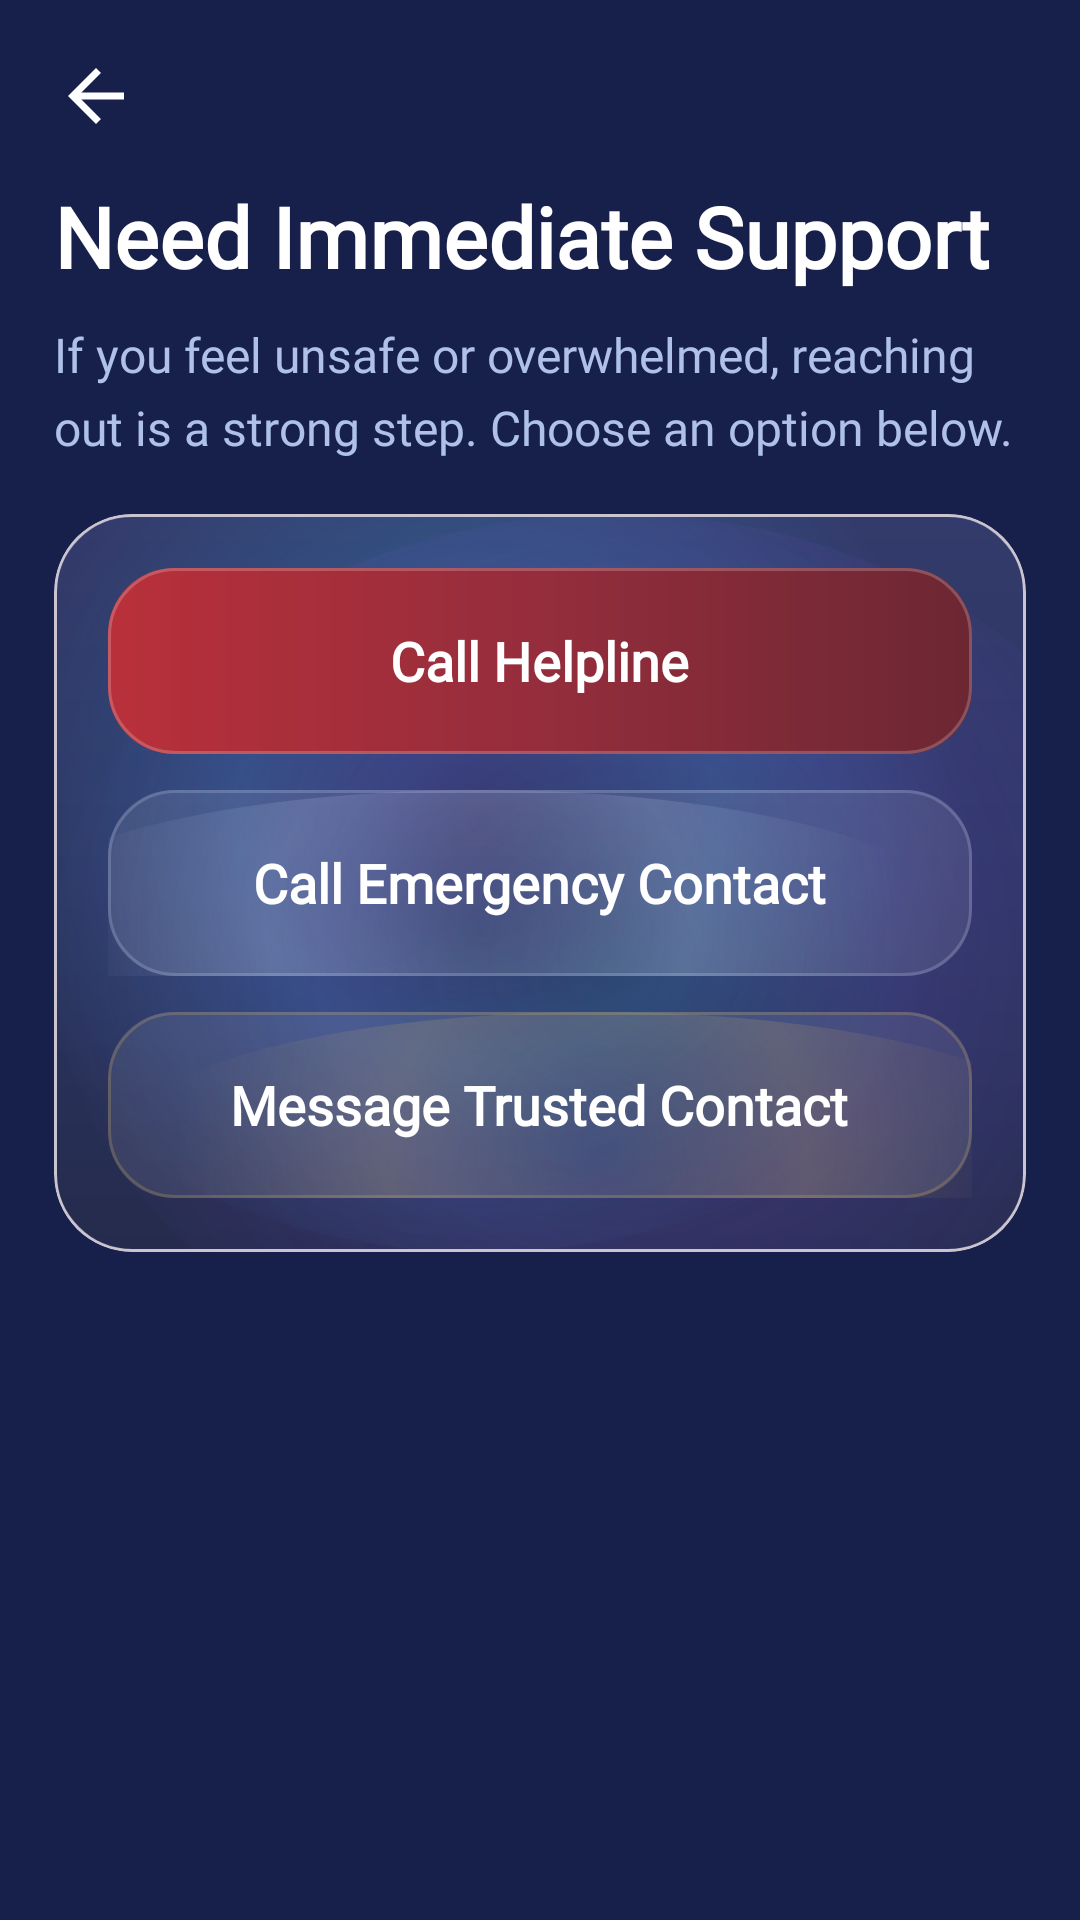

Icons on this 1080px×1920px Android screen, each with its box as region(x1, y1, x2, y2):
Back: region(68, 68, 124, 124)
